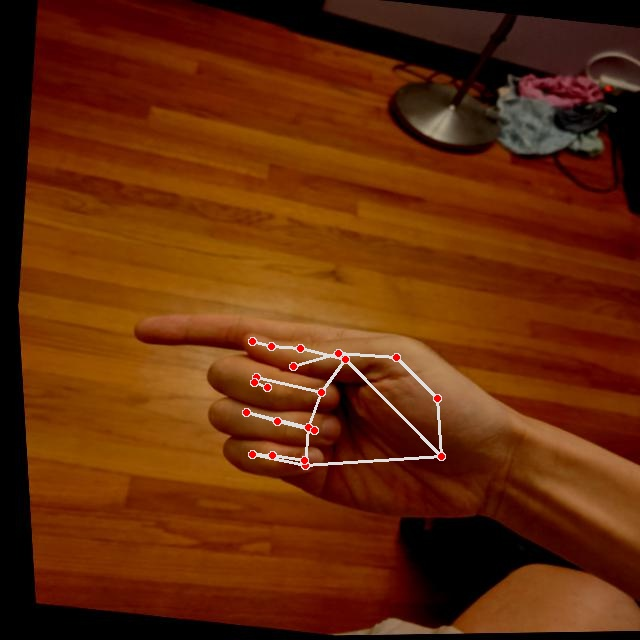G: (100, 293, 508, 539)
